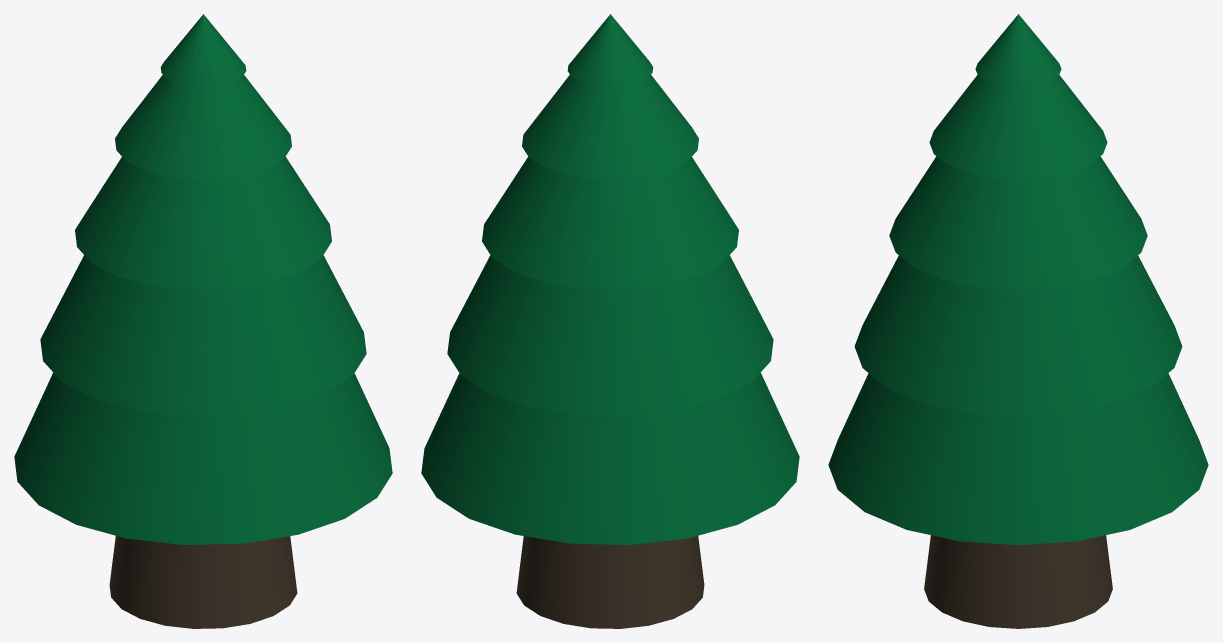
File: Pine.fbx
3 renders of one model, left to right at view 1: azimuth 30°, elevation 25°; view 2: azimuth 150°, elevation 25°; view 3: azimuth 270°, elevation 25°, orthographic.
Visible parts, largest first — view 1: pCylinder3; view 2: pCylinder3; view 3: pCylinder3.
Part boxes in pixels (left/top/right/bottom): pCylinder3: left=14, top=14, right=392, bottom=628; pCylinder3: left=421, top=14, right=799, bottom=628; pCylinder3: left=828, top=14, right=1208, bottom=628.
Bounding box in the file's own units: 2.9 × 4.84 × 2.9.
